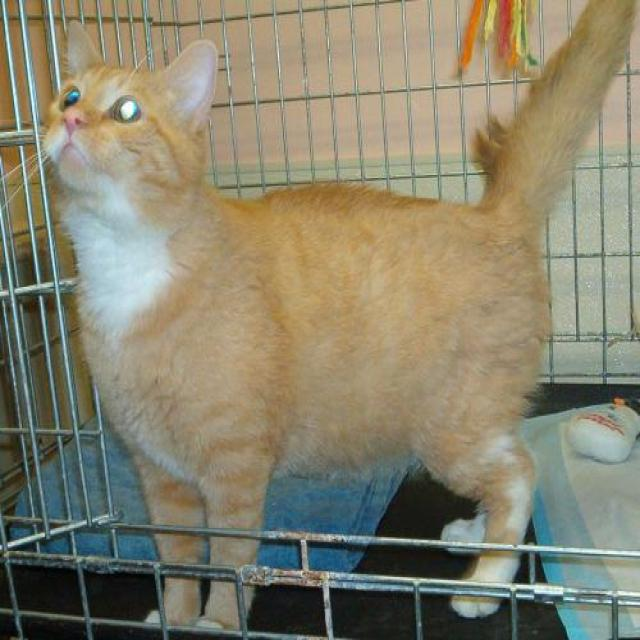Cats: (16, 0, 637, 635)
